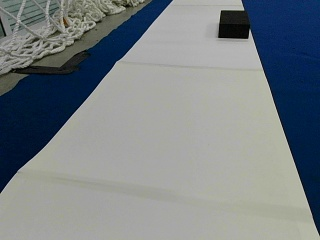block: (218, 10, 250, 38)
